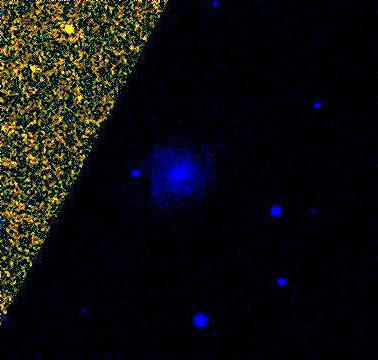star: (55, 14, 85, 44)
